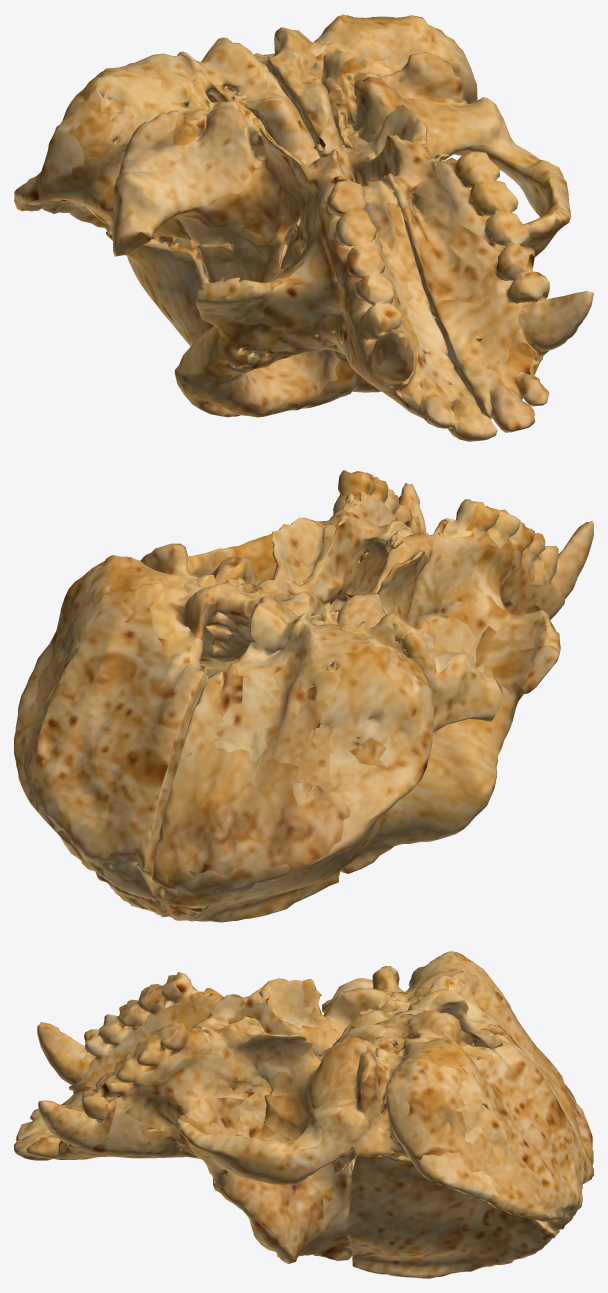
File: orangutan-cranium-512-v01-textured-v03.glb
3 views of the same model, one above another, from view 1: azimuth 30°, elevation 25°; view 2: azimuth 150°, elevation 25°; view 3: azimuth 270°, elevation 25° (orthographic). The views are drawn at different scales.
Parts seen in each view (by area): view 1: Mesh_0; view 2: Mesh_0; view 3: Mesh_0.
Part boxes in pixels (bbox=[...]): Mesh_0: bbox=[14, 14, 593, 441]; Mesh_0: bbox=[14, 470, 593, 922]; Mesh_0: bbox=[14, 951, 593, 1278].
Size of the model in its own units: 181 by 141 by 274.
Materials: 1 (1 with a texture image).
